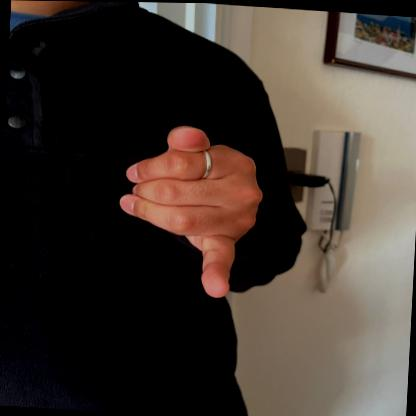Z: (110, 117, 268, 303)
